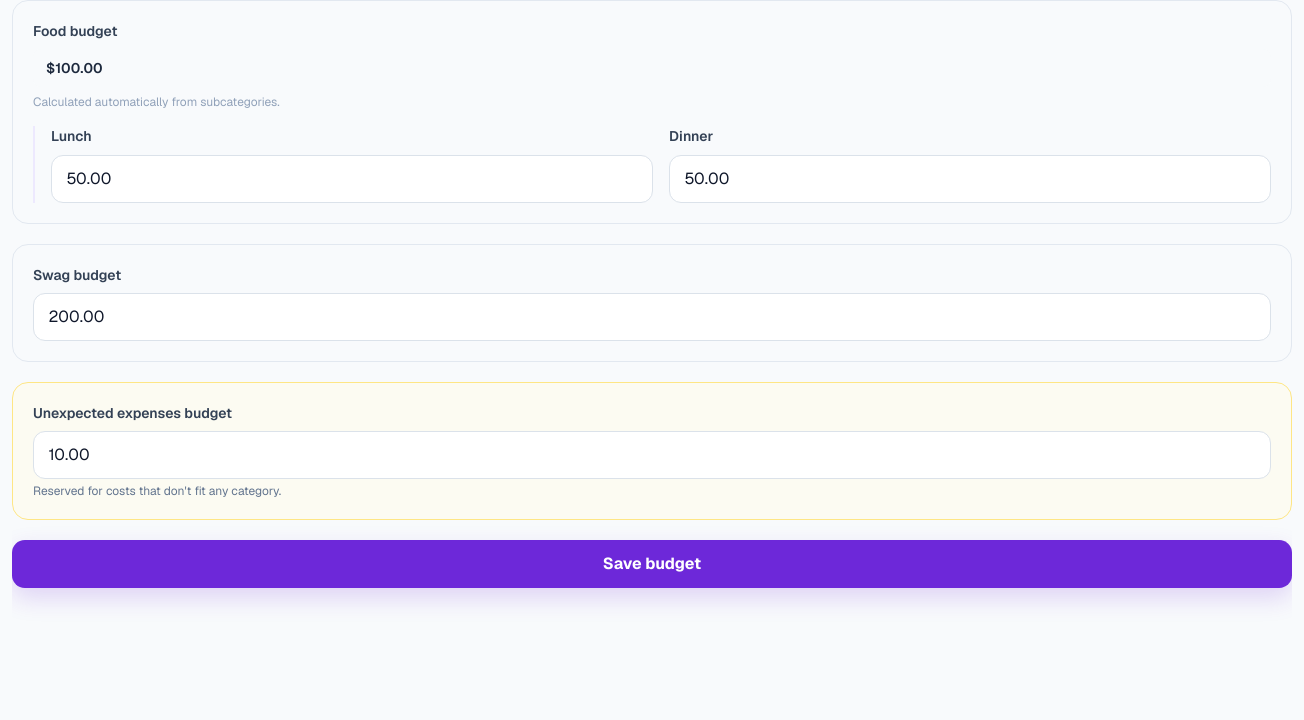
Test case: BudgetPlanForm › shows a success message returned from the action
Click the button "Save budget" at [652, 564], box [12,540,1292,588]
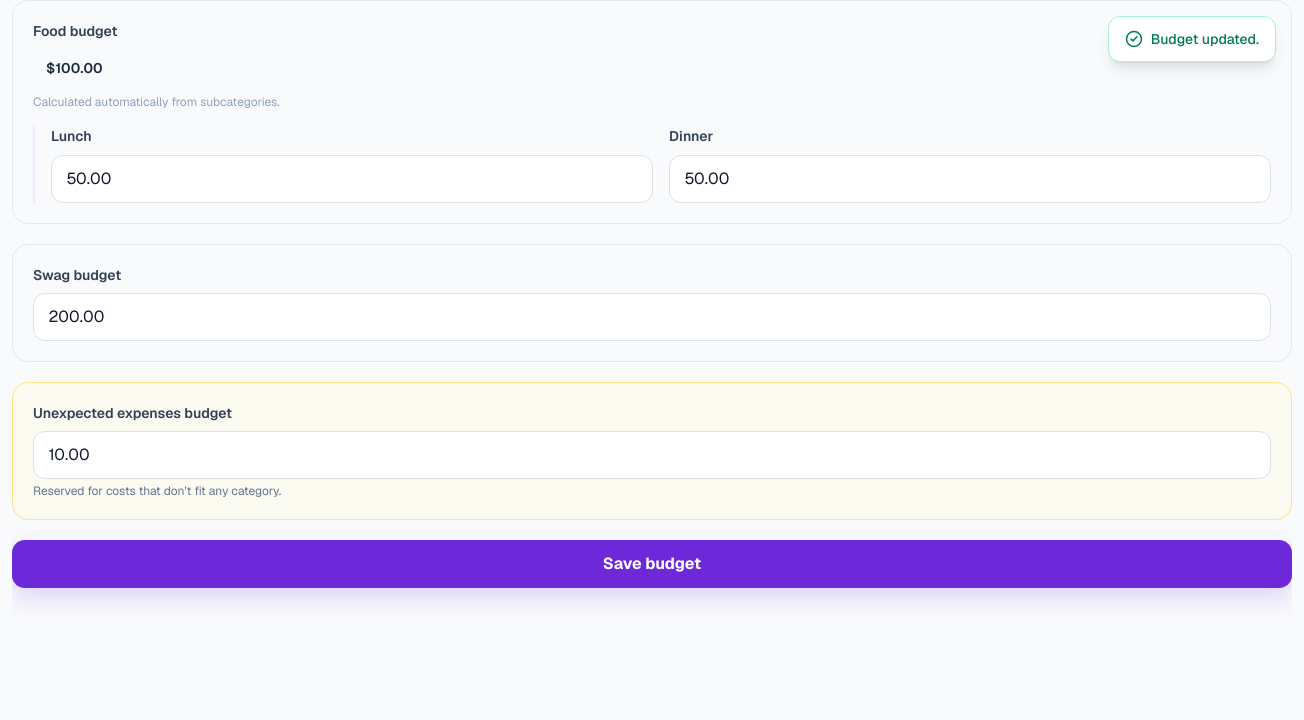
Check: the message reads "Budget updated.", box [1151,30,1259,48]
